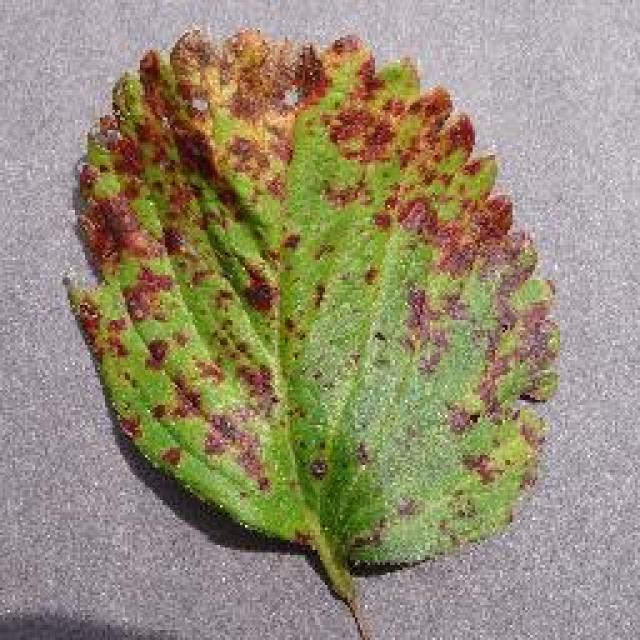Strawberry___Leaf_scorch: (45, 8, 585, 638)
